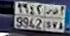2: (36, 4, 42, 30)
4: (29, 5, 35, 29)
9: (22, 3, 28, 30), (16, 3, 22, 29)
A: (58, 5, 64, 32)
S: (45, 8, 52, 31)
